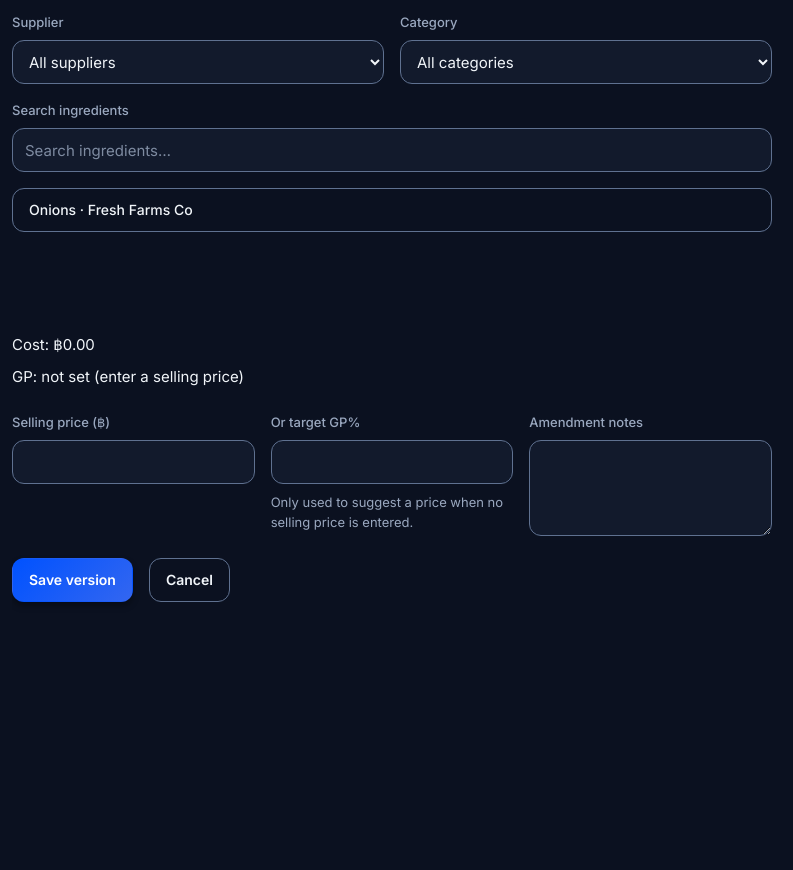
Scenario: adding the same ingredient twice does not create a second line
This screenshot has width=793, height=870.
Click the button "Onions · Fresh Farms Co": (53, 210) [12,188,772,232]
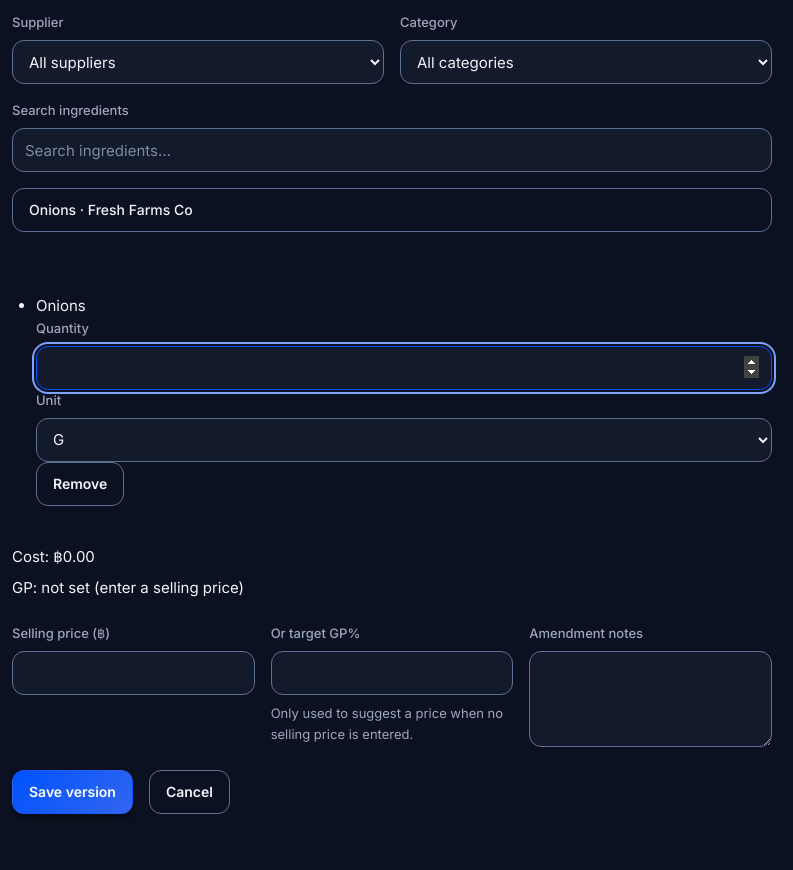
Click the button "Onions · Fresh Farms Co": (53, 210) [12,188,772,232]
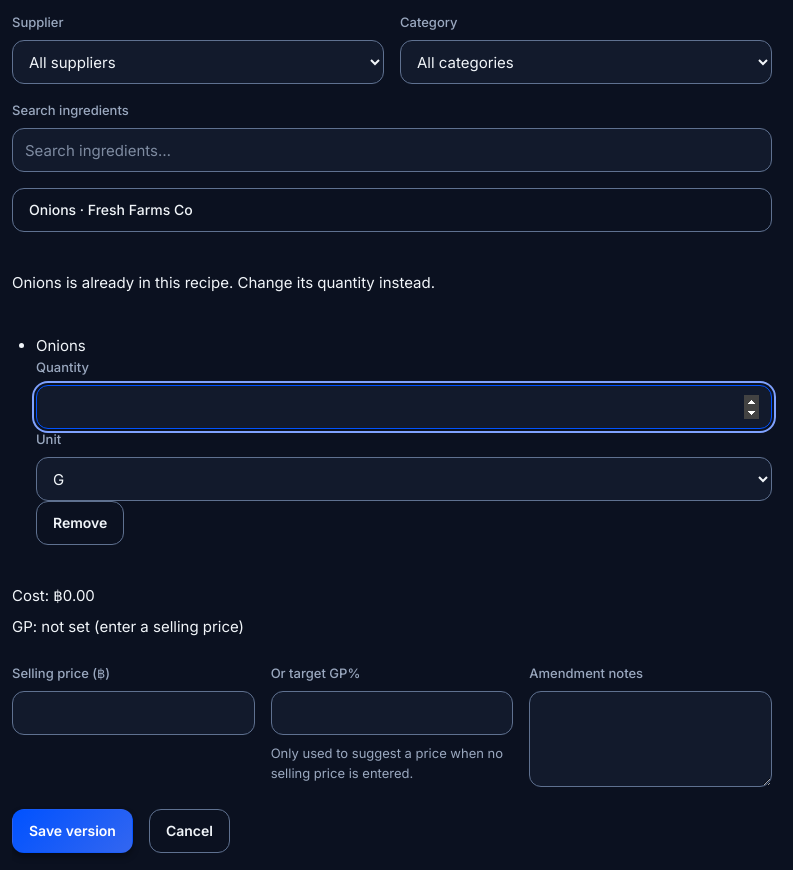
Now the number of number fields labelled "Quantity" is 1, box [36,385,772,429]
Now the text "already in this recipe" is shown, box [12,273,435,292]
